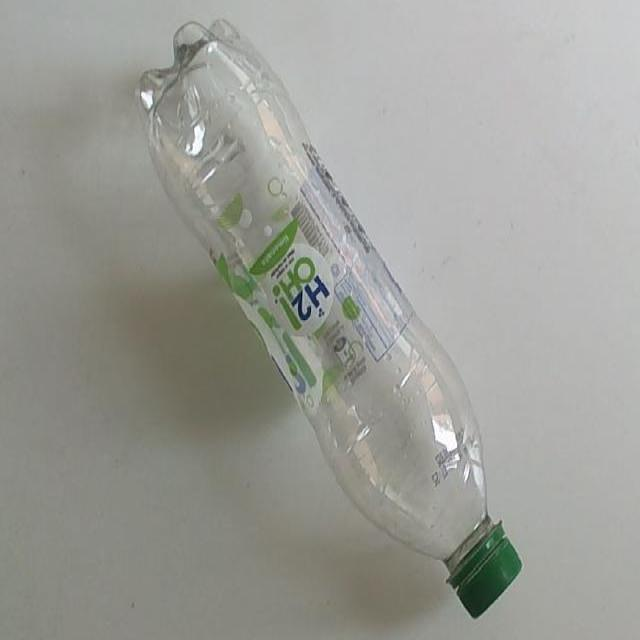non-defect: (131, 16, 524, 623)
